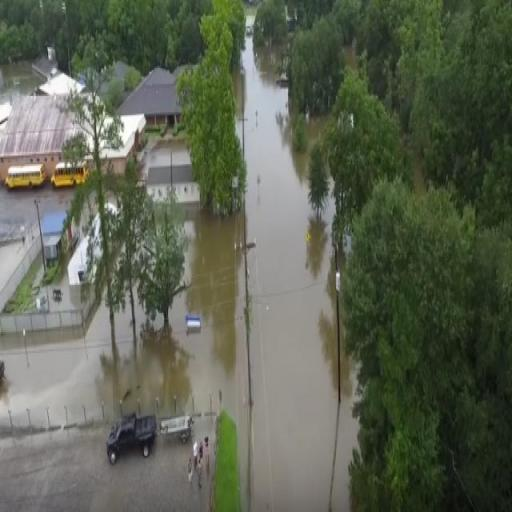flood: (0, 37, 358, 512)
house: (0, 92, 86, 165), (0, 200, 41, 322), (122, 66, 181, 130), (98, 110, 144, 176), (148, 149, 198, 203), (42, 214, 76, 248), (32, 53, 60, 75)
